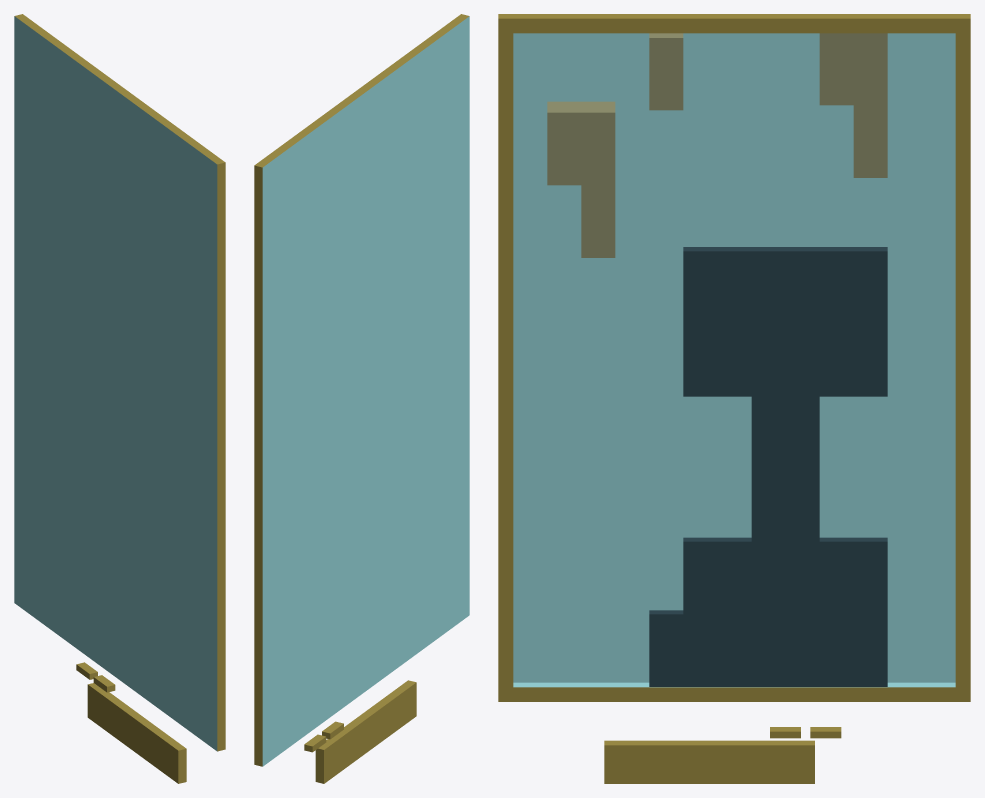
The model's file is tablo.fbx.
The picture shows the model from 3 angles, left to right: view 1: azimuth 30°, elevation 25°; view 2: azimuth 150°, elevation 25°; view 3: azimuth 270°, elevation 25°; orthographic projection. The views are drawn at different scales.
Visible parts, largest first — view 1: Cube.001; view 2: Cube.001; view 3: Cube.001.
Boxes of the visible parts, bbox=[...] form: Cube.001: bbox=[14, 14, 225, 783]; Cube.001: bbox=[254, 14, 469, 783]; Cube.001: bbox=[498, 14, 970, 783].
Size of the model in its own units: 9.85 by 309 by 174.
